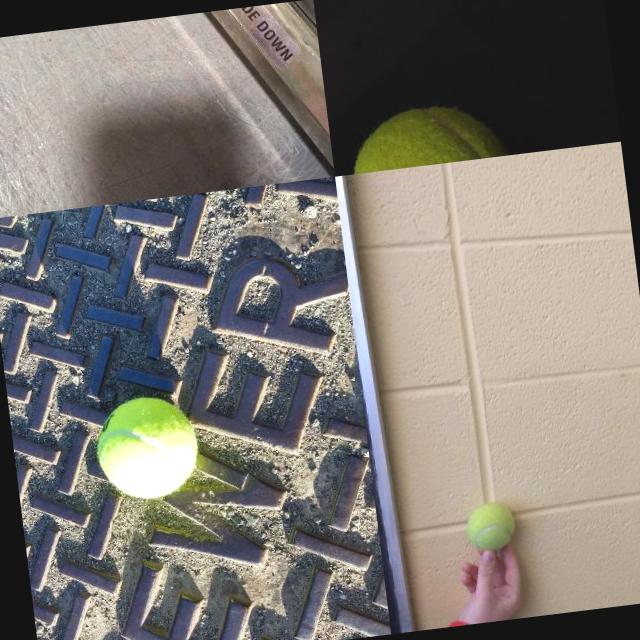Tennis Ball: (339, 96, 510, 174), (90, 390, 204, 505), (464, 500, 517, 552)
